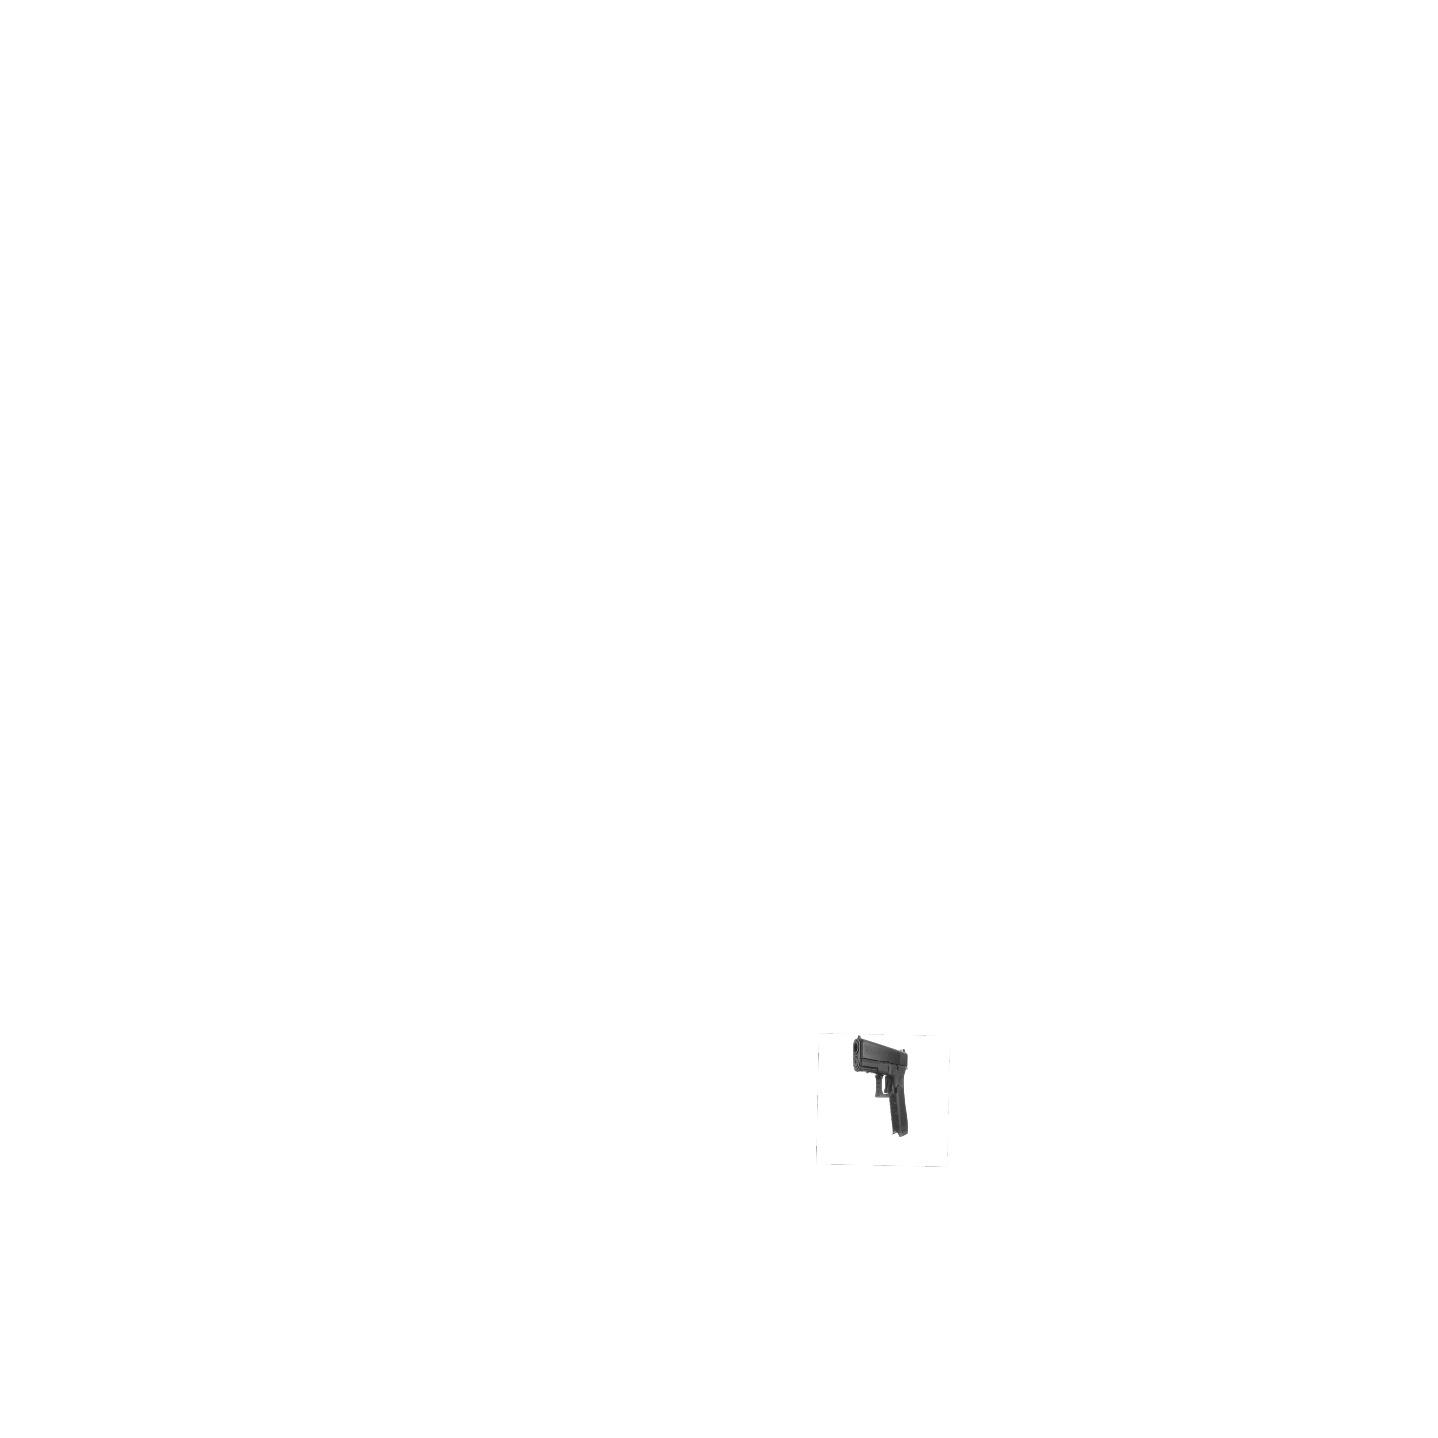gun: (853, 1035, 909, 1136)
